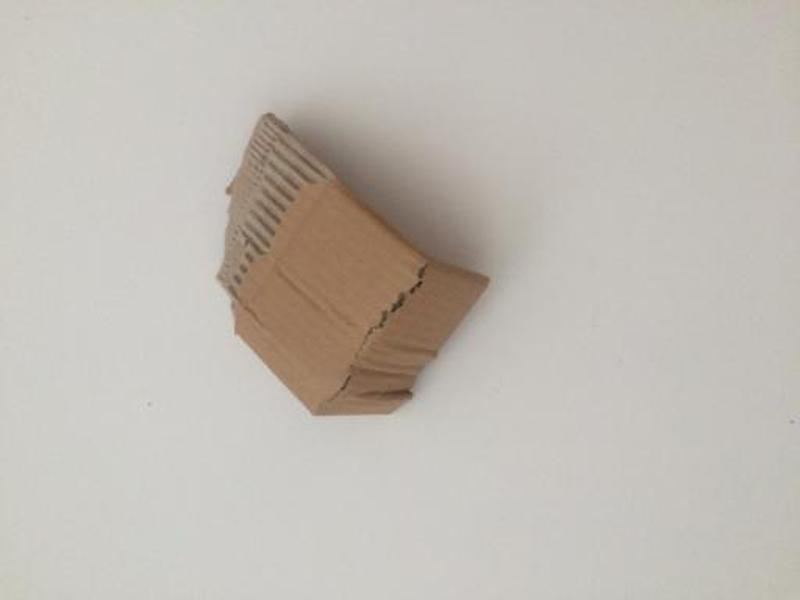cardboard: (216, 110, 498, 417)
